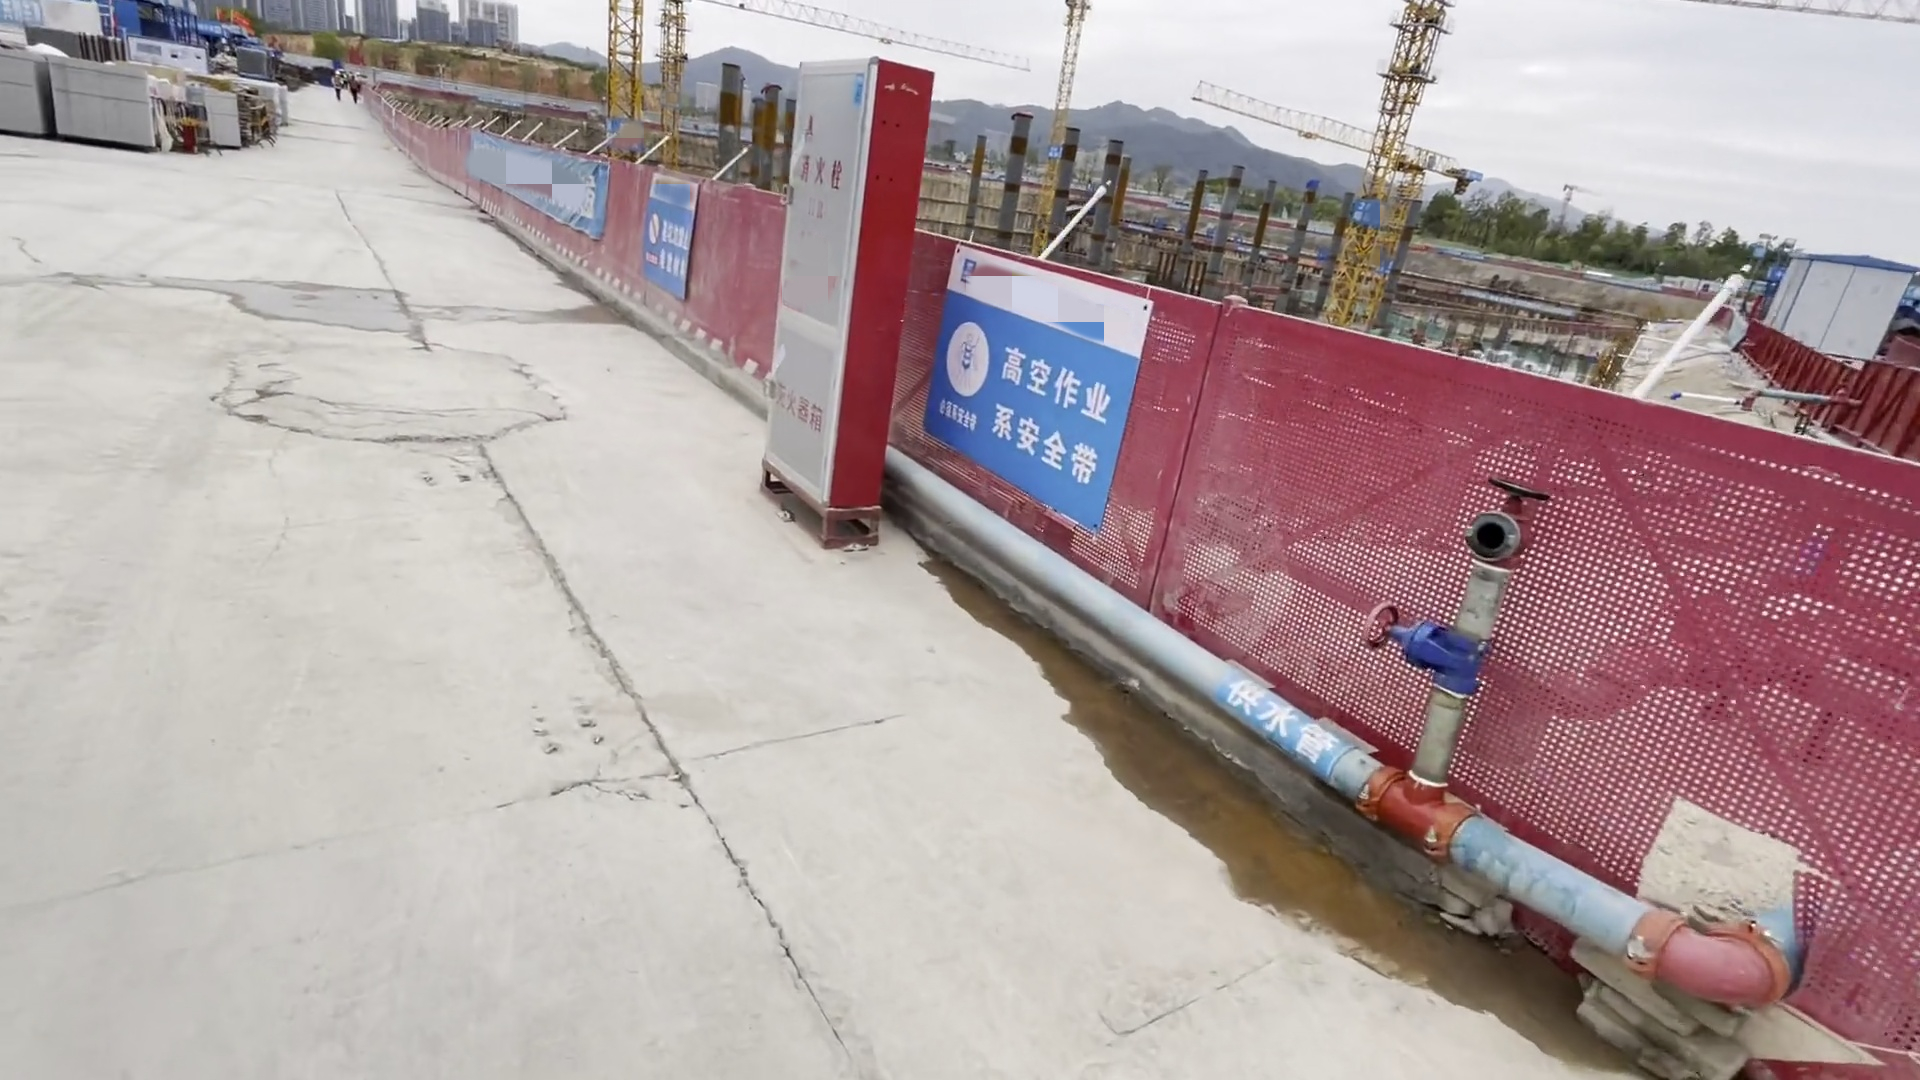brick: (1, 51, 164, 157), (189, 83, 247, 153)
fence: (911, 262, 1920, 1058), (343, 84, 795, 422)
slogan: (922, 318, 1122, 500), (632, 204, 692, 285)
